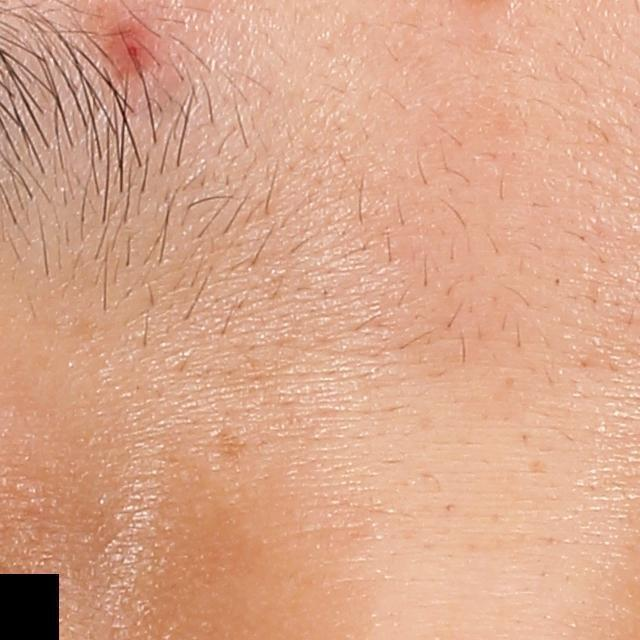melasma: (214, 426, 251, 466)
